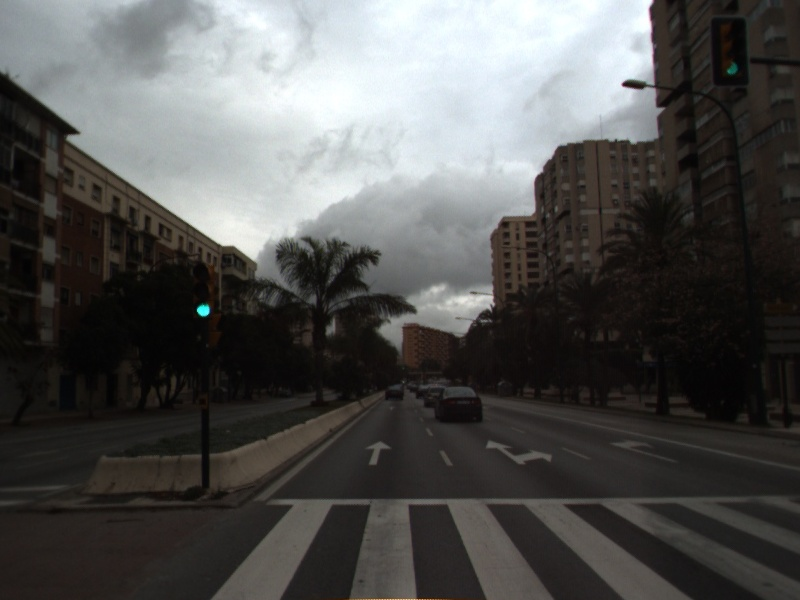RIGHT: (606, 436, 681, 466)
STRAIGHT: (363, 439, 394, 467)
STRAIGHT_RIGHT: (483, 437, 554, 467)
